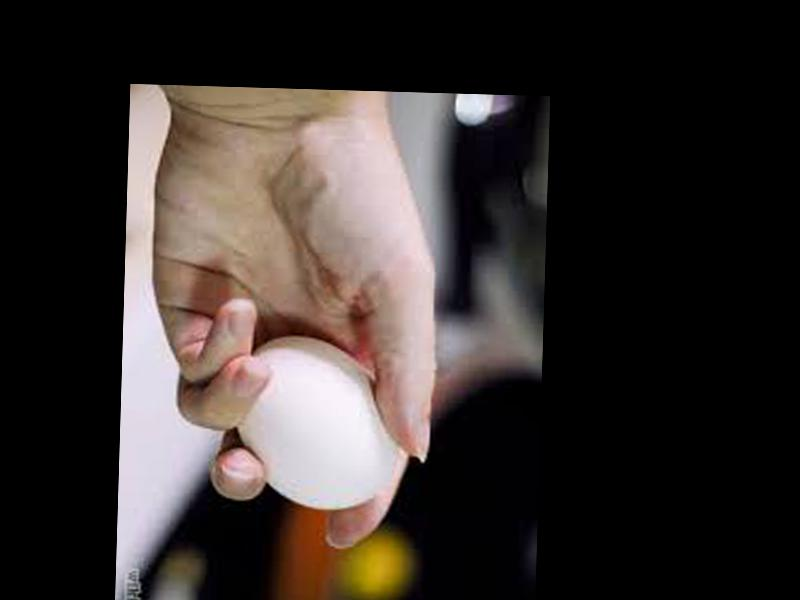Eggs: (236, 336, 400, 513)
